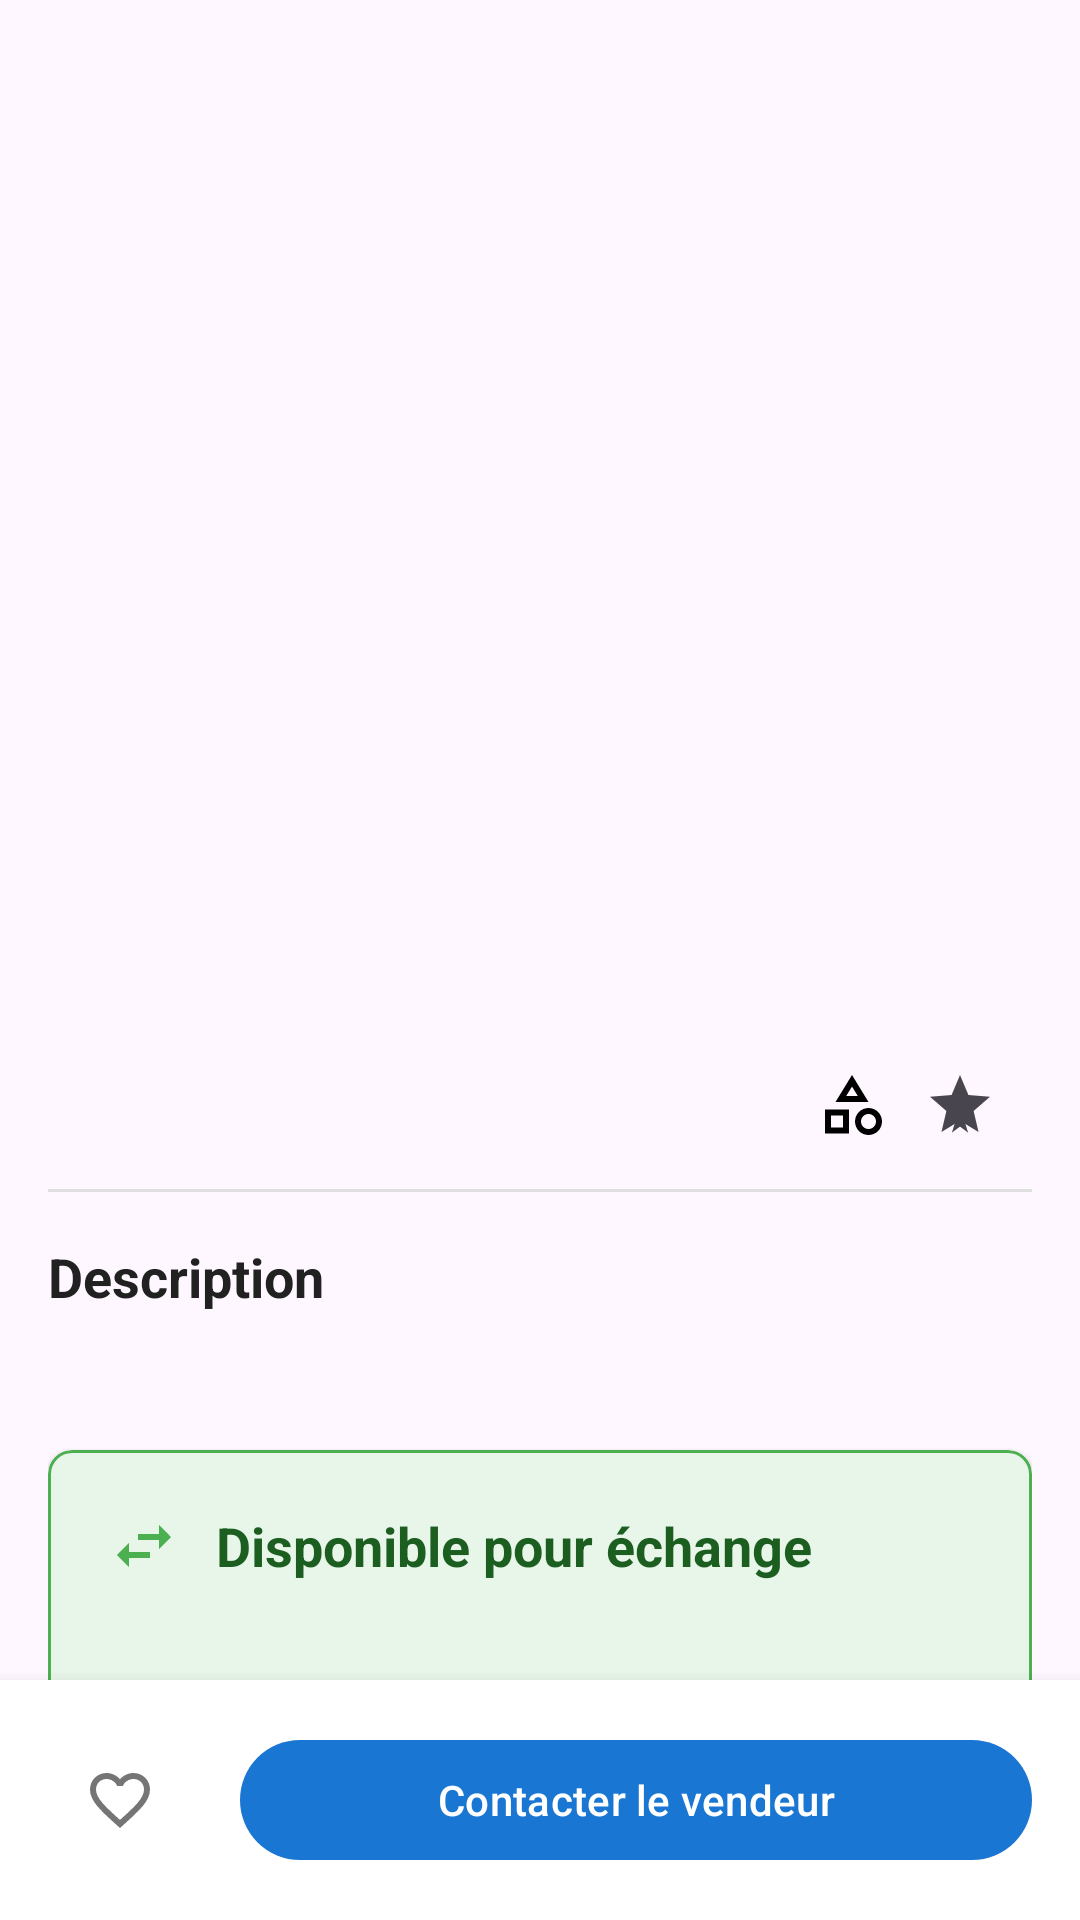

Icons on this 1080px×1920px Android screen, each with its box as region(x1, y1, x2, y2):
Ajouter aux favoris: region(90, 1773, 150, 1828)
swap horiz: region(117, 1525, 171, 1567)
